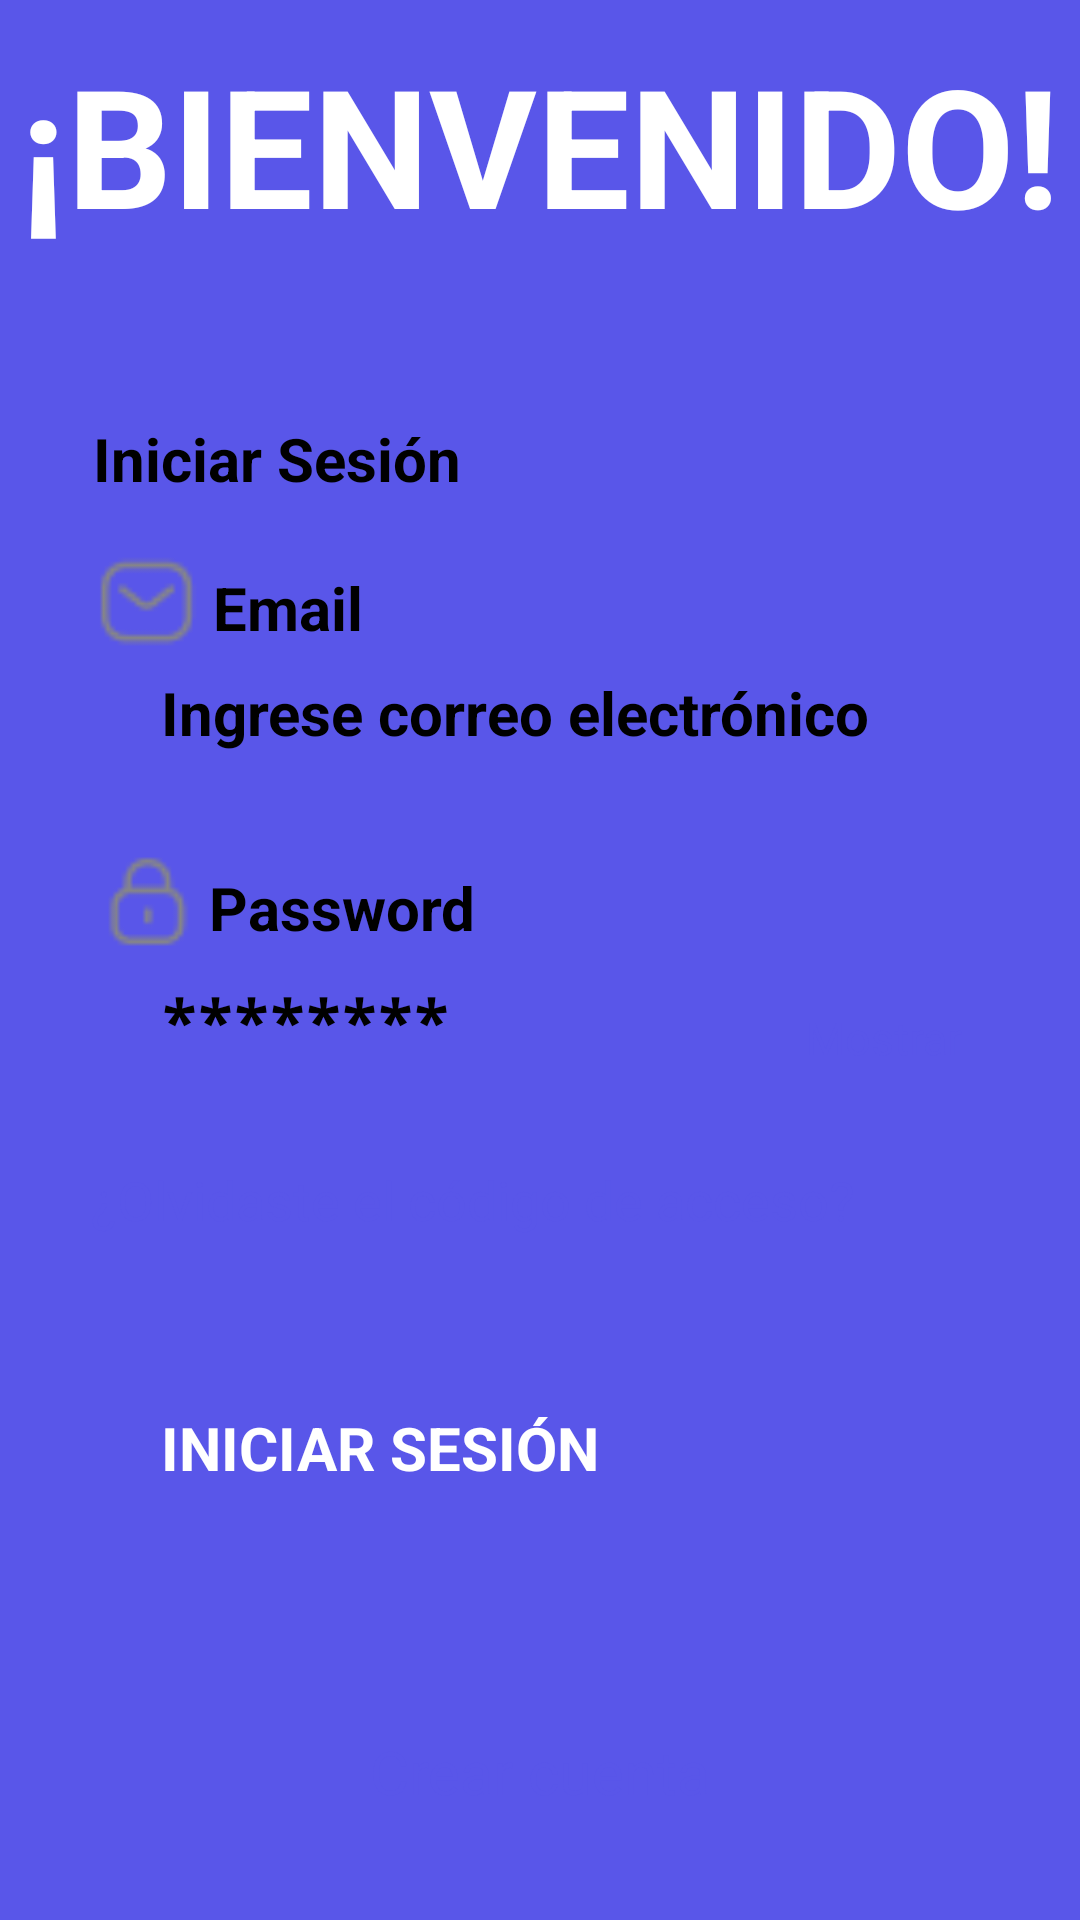

Where icons sit on this 1080w x 1920h app screen, as bbox=[x1, y1, x2, y2]:
lock: bbox=[110, 858, 186, 945]
message: bbox=[100, 561, 193, 644]
